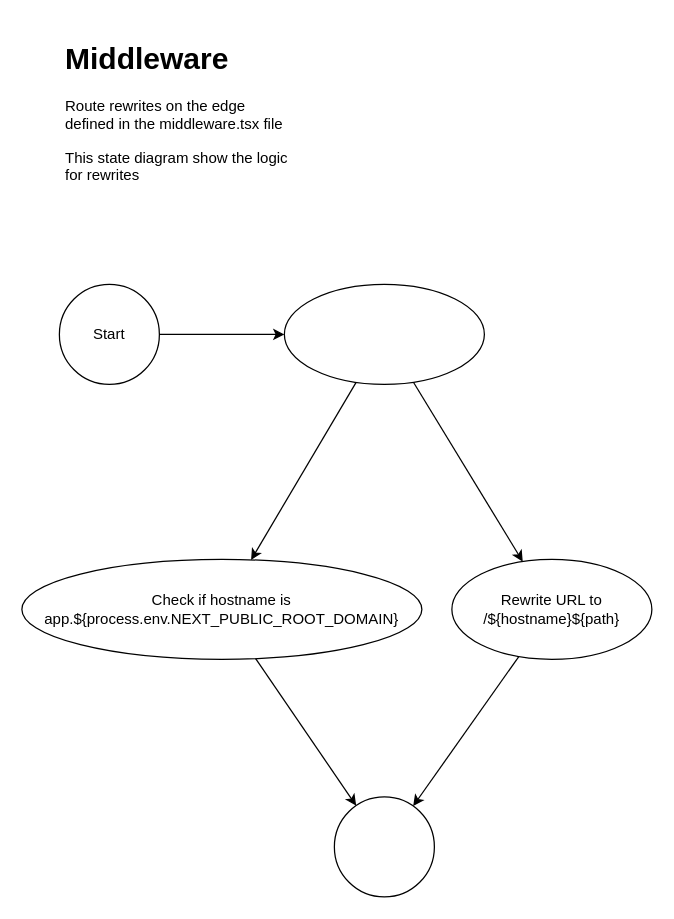
Image size: 674x919. Some labels were removed from this diagram. Each missing label, with the centre of its shape:
"End" goes at point (383, 846).
"Extract hostname and pathname" goes at point (383, 333).
